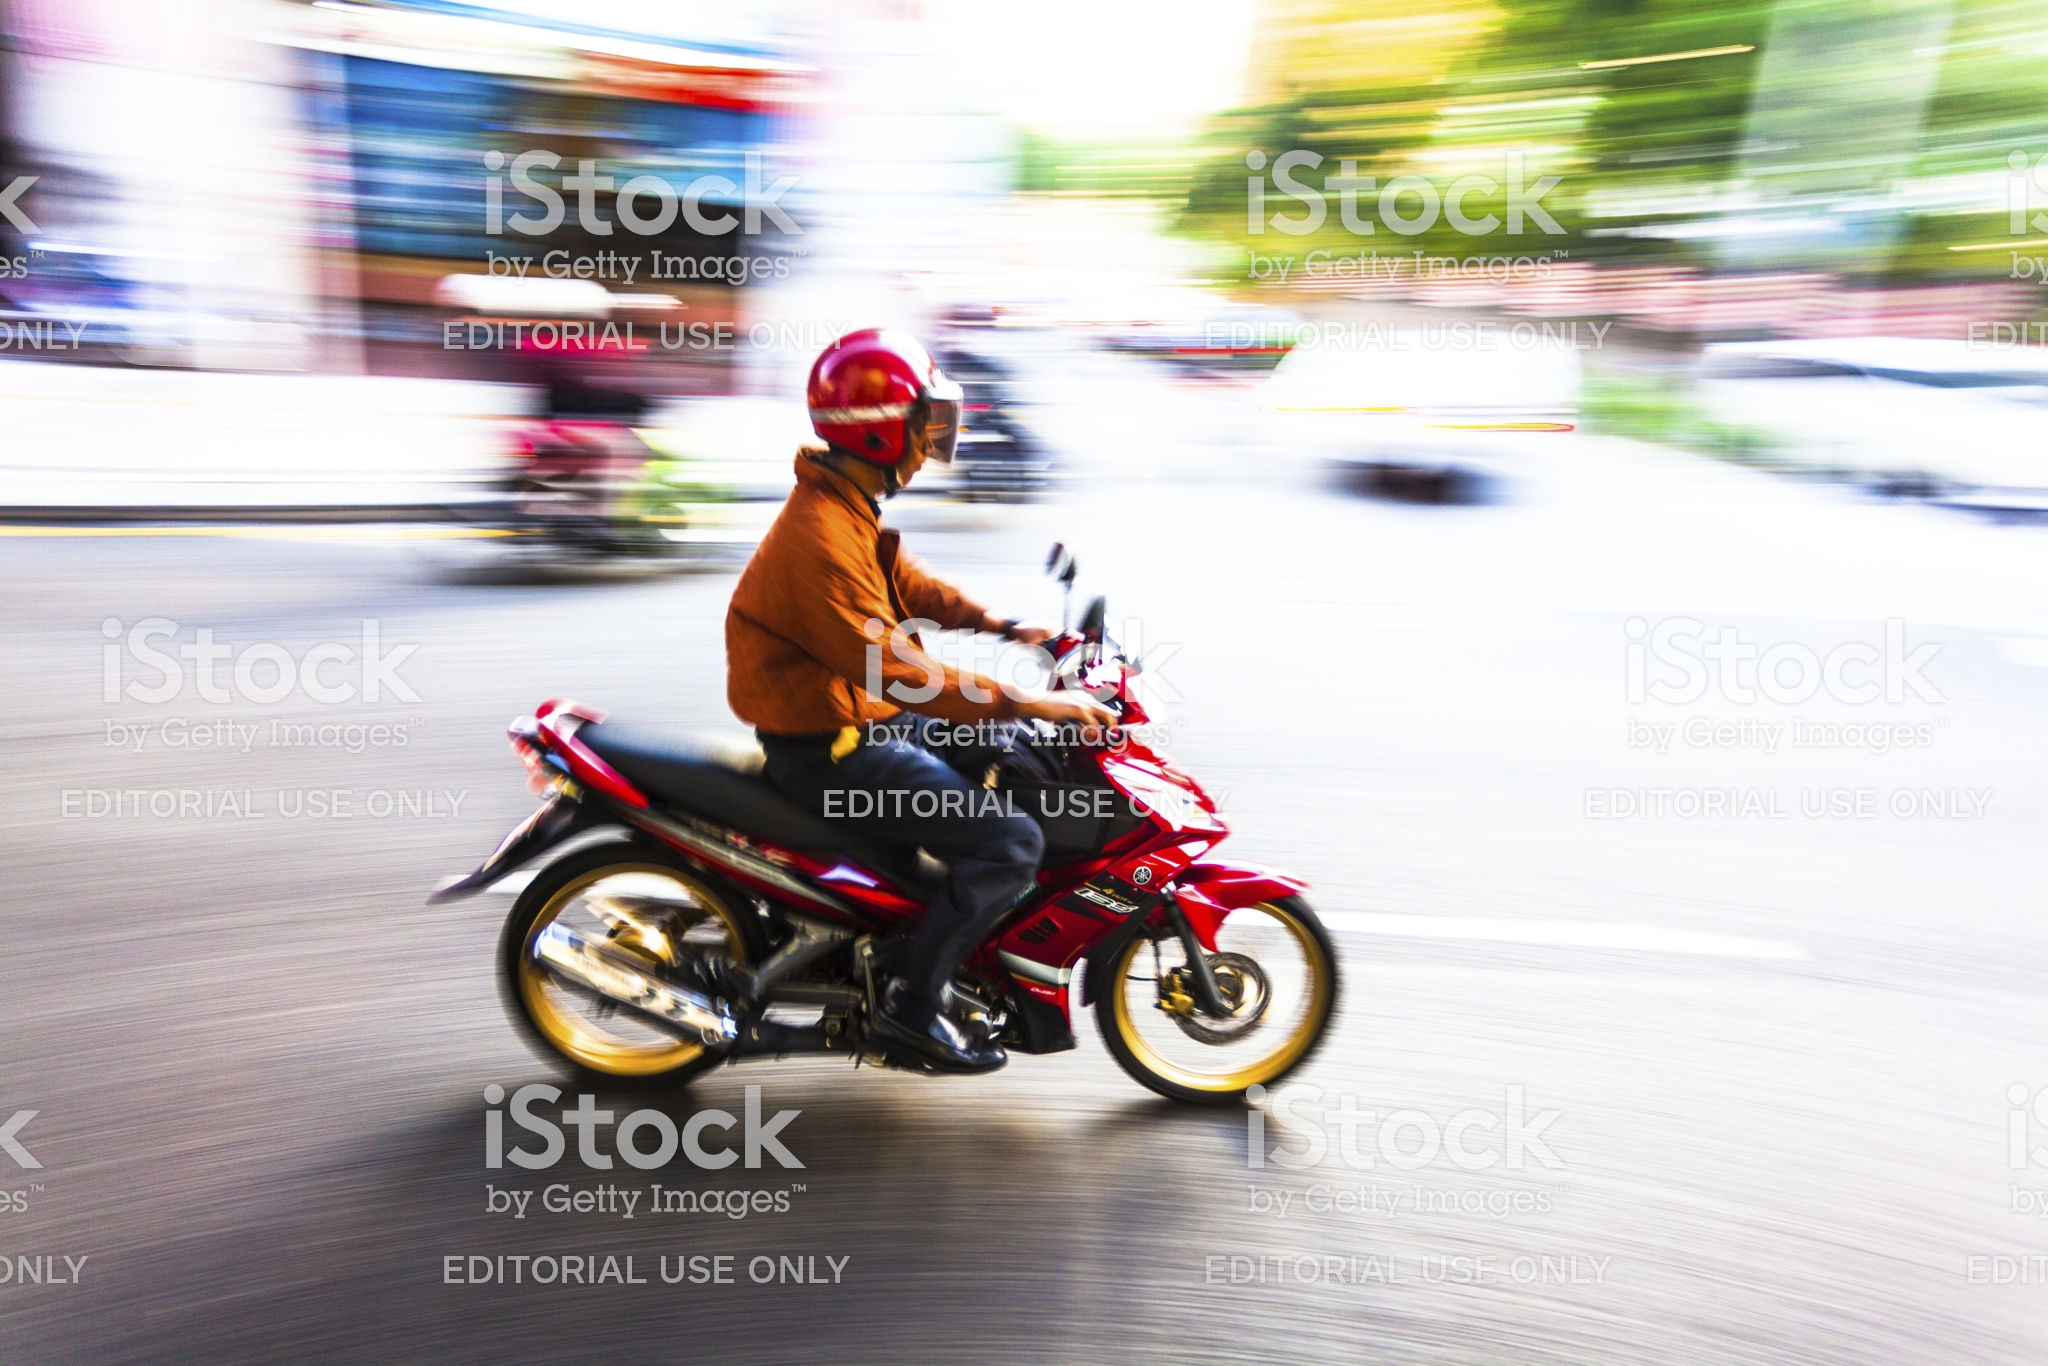helmet: (806, 308, 968, 486)
